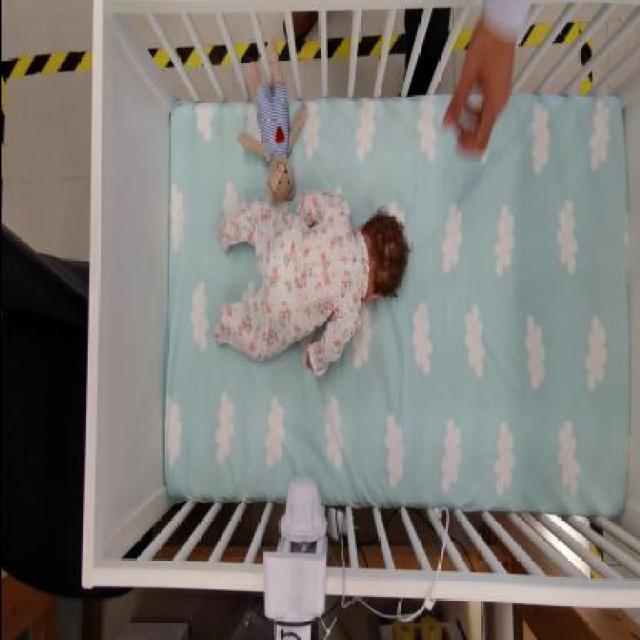baby: (208, 189, 410, 375)
